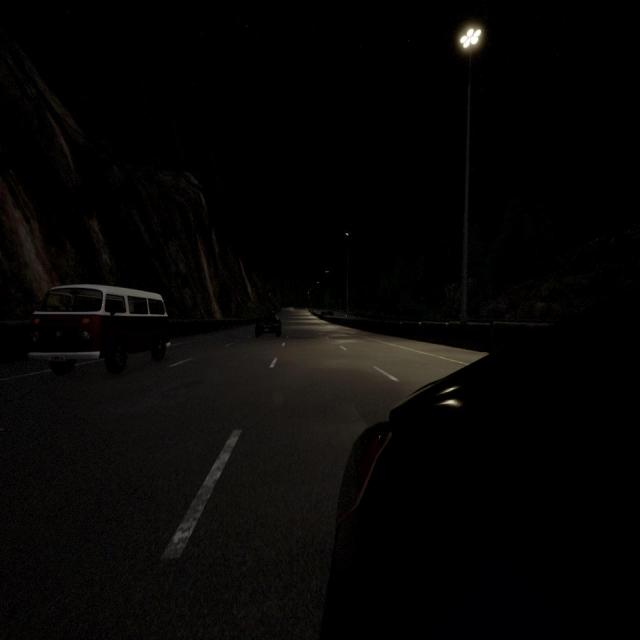Vehicle: (324, 316, 640, 640), (25, 286, 171, 376), (255, 312, 281, 338)
